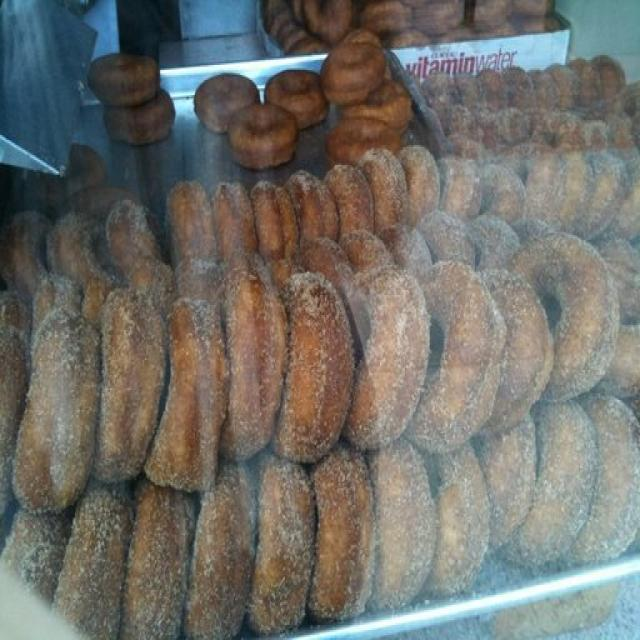Donuts: (10, 1, 640, 640)
